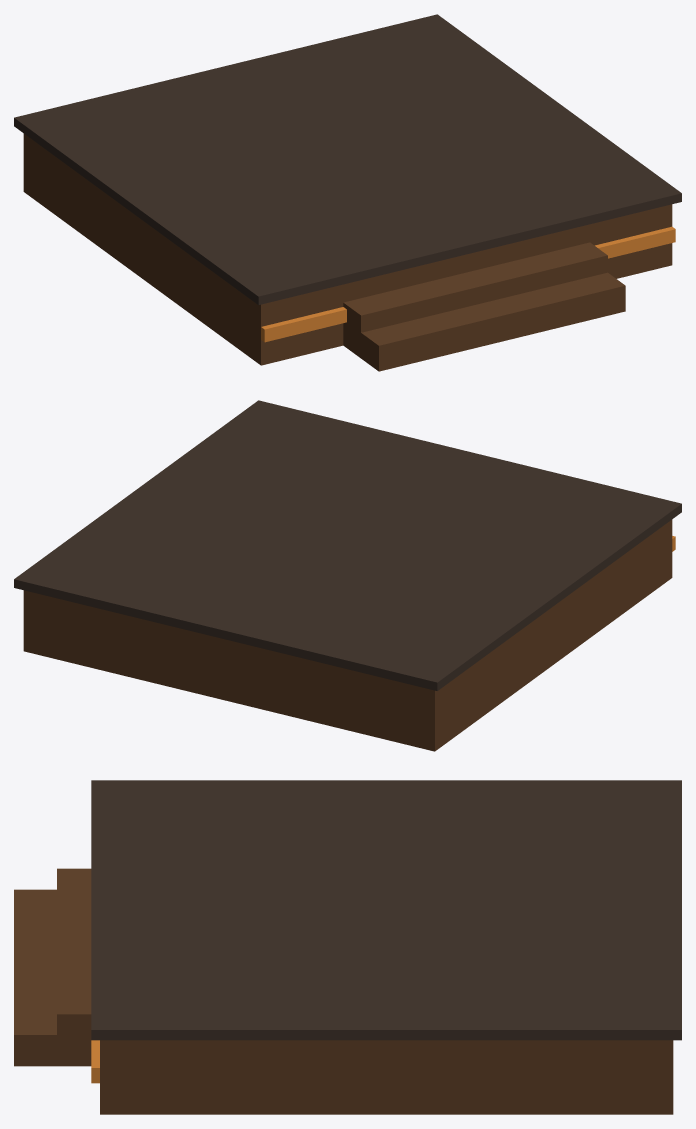
The model's file is cantina_stage.glb.
3 renders of one model, top to bottom at view 1: azimuth 30°, elevation 25°; view 2: azimuth 150°, elevation 25°; view 3: azimuth 270°, elevation 25°, orthographic. The views are drawn at different scales.
Parts seen in each view (by area): view 1: sw5e_int_cantina_stage; view 2: sw5e_int_cantina_stage; view 3: sw5e_int_cantina_stage.
Part boxes in pixels (x1,y1,x2,y2): sw5e_int_cantina_stage: [14, 14, 681, 371]; sw5e_int_cantina_stage: [14, 400, 681, 751]; sw5e_int_cantina_stage: [14, 780, 681, 1114].
Bounding box in the file's own units: 2.06 × 0.34 × 2.33.
